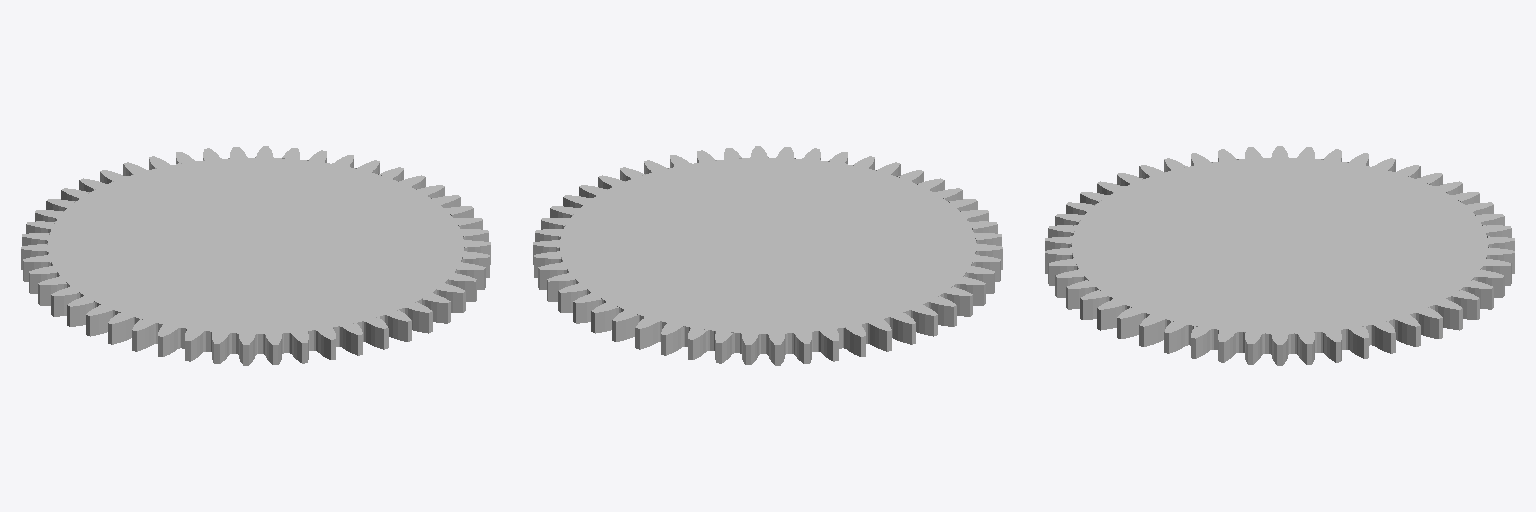
3 views of the same model, side by side, from view 1: azimuth 30°, elevation 25°; view 2: azimuth 150°, elevation 25°; view 3: azimuth 270°, elevation 25° (orthographic).
Parts seen in each view (by area): view 1: HerringboneGear, HerringboneGear.033, HerringboneGear.042, HerringboneGear.043, HerringboneGear.032, HerringboneGear.044, HerringboneGear.031, HerringboneGear.034, HerringboneGear.041, HerringboneGear.045, HerringboneGear.030, HerringboneGear.035 (+8 smaller); view 2: HerringboneGear, HerringboneGear.013, HerringboneGear.050, HerringboneGear.049, HerringboneGear.012, HerringboneGear.048, HerringboneGear.011, HerringboneGear.014, HerringboneGear.021, HerringboneGear.047, HerringboneGear.010, HerringboneGear.015 (+8 smaller); view 3: HerringboneGear, HerringboneGear.006, HerringboneGear.026, HerringboneGear.005, HerringboneGear.025, HerringboneGear.007, HerringboneGear.027, HerringboneGear.008, HerringboneGear.028, HerringboneGear.004, HerringboneGear.024, HerringboneGear.002 (+8 smaller).
Part boxes in pixels (x1,y1,x2,y2): HerringboneGear: (48, 158, 463, 353); HerringboneGear.033: (362, 317, 388, 349); HerringboneGear.042: (132, 319, 157, 351); HerringboneGear.043: (108, 312, 134, 344); HerringboneGear.032: (384, 310, 411, 341); HerringboneGear.044: (86, 305, 114, 336); HerringboneGear.031: (403, 302, 432, 333); HerringboneGear.034: (339, 323, 362, 355); HerringboneGear.041: (158, 325, 180, 356); HerringboneGear.045: (67, 296, 96, 326); HerringboneGear.030: (420, 292, 450, 323); HerringboneGear.035: (314, 327, 335, 359); HerringboneGear: (560, 158, 975, 353); HerringboneGear.013: (635, 317, 661, 349); HerringboneGear.050: (866, 319, 891, 351); HerringboneGear.049: (889, 312, 915, 344); HerringboneGear.012: (612, 309, 639, 341); HerringboneGear.048: (909, 305, 937, 336); HerringboneGear.011: (591, 301, 620, 333); HerringboneGear.014: (661, 323, 684, 355); HerringboneGear.021: (843, 324, 865, 356); HerringboneGear.047: (927, 296, 956, 326); HerringboneGear.010: (573, 292, 603, 323); HerringboneGear.015: (688, 327, 709, 359); HerringboneGear: (1072, 158, 1487, 353); HerringboneGear.006: (1393, 315, 1420, 346); HerringboneGear.026: (1139, 315, 1166, 346); HerringboneGear.005: (1371, 321, 1395, 353); HerringboneGear.025: (1164, 321, 1188, 353); HerringboneGear.007: (1414, 307, 1442, 338); HerringboneGear.027: (1117, 307, 1145, 338); HerringboneGear.008: (1433, 299, 1462, 330); HerringboneGear.028: (1097, 299, 1126, 330); HerringboneGear.004: (1346, 326, 1368, 358); HerringboneGear.024: (1191, 326, 1213, 358); HerringboneGear.002: (1295, 332, 1316, 364).
Size of the model in its own units: 10.4 by 0.5 by 10.39.